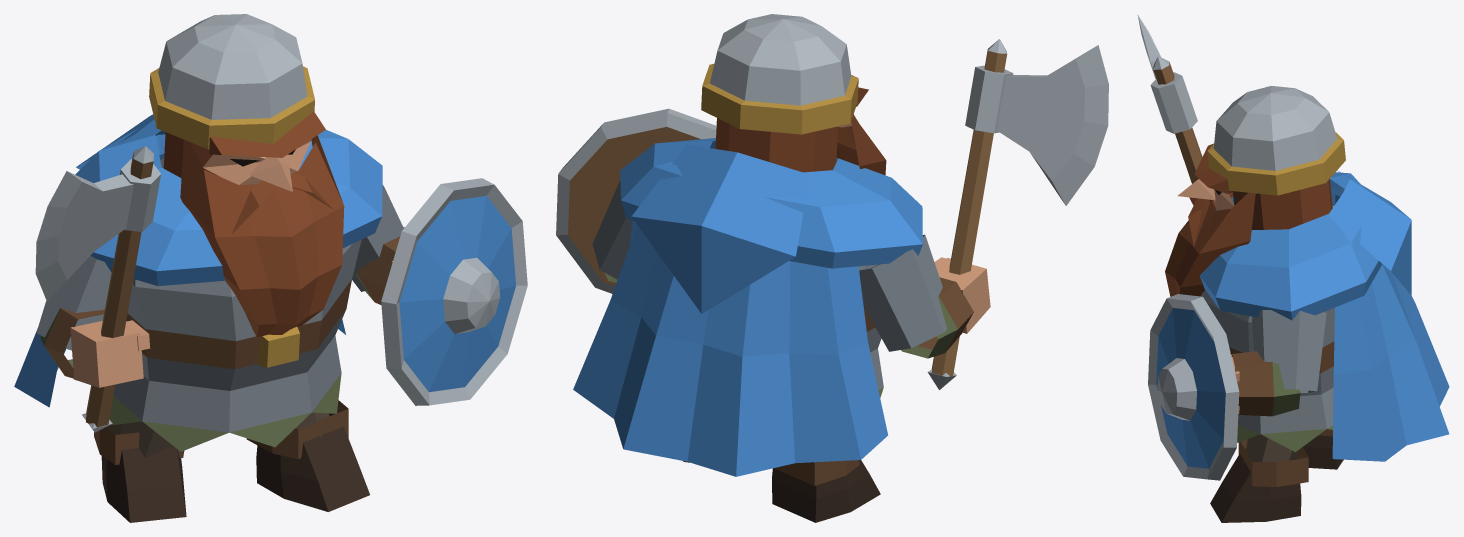
File: gimli.glb
The picture shows the model from 3 angles, left to right: view 1: azimuth 30°, elevation 25°; view 2: azimuth 150°, elevation 25°; view 3: azimuth 270°, elevation 25°; orthographic projection. The views are drawn at different scales.
Parts seen in each view (by area): view 1: gimli; view 2: gimli; view 3: gimli.
Part boxes in pixels (x1,y1,x2,y2): gimli: [14, 14, 527, 522]; gimli: [556, 14, 1108, 522]; gimli: [1137, 14, 1449, 522].
Bounding box in the file's own units: 1.36 × 1.15 × 0.8385.
